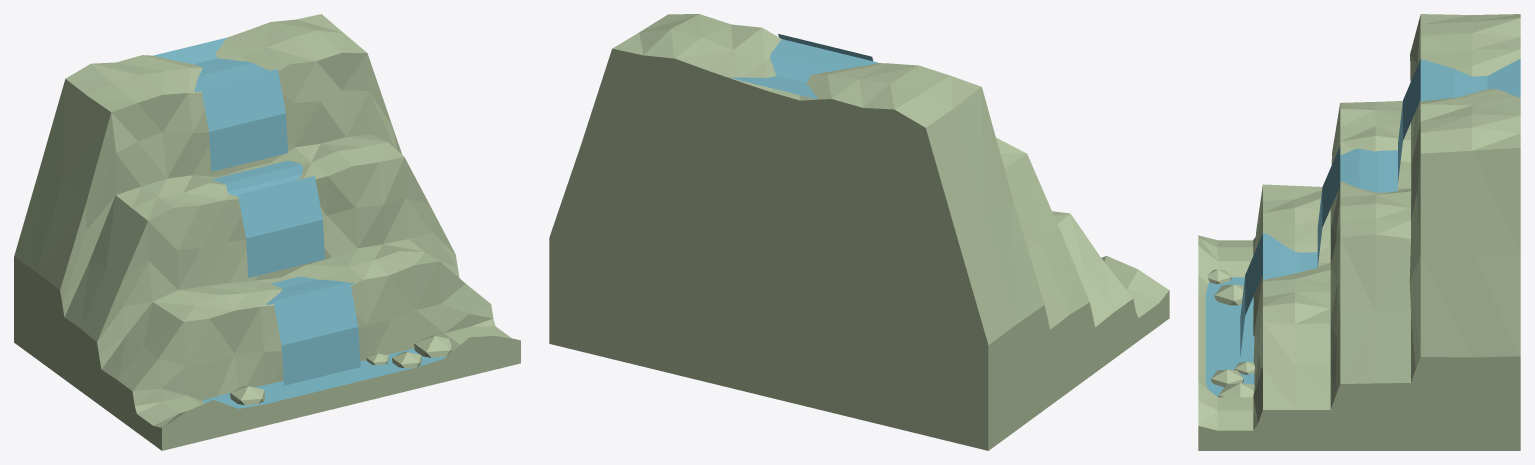
The model's file is waterfall_cliff.fbx.
The picture shows the model from 3 angles, left to right: view 1: azimuth 30°, elevation 25°; view 2: azimuth 150°, elevation 25°; view 3: azimuth 270°, elevation 25°; orthographic projection. The views are drawn at different scales.
Parts seen in each view (by area): view 1: waterfall_cliff, waterfall_cliff_Water; view 2: waterfall_cliff, waterfall_cliff_Water; view 3: waterfall_cliff, waterfall_cliff_Water.
Part boxes in pixels (x1,y1,x2,y2): waterfall_cliff: (14, 14, 520, 450); waterfall_cliff_Water: (153, 37, 445, 408); waterfall_cliff: (549, 14, 1169, 450); waterfall_cliff_Water: (728, 34, 877, 99); waterfall_cliff: (1198, 14, 1520, 450); waterfall_cliff_Water: (1205, 59, 1520, 396).
Size of the model in its own units: 14 by 9.72 by 10.
